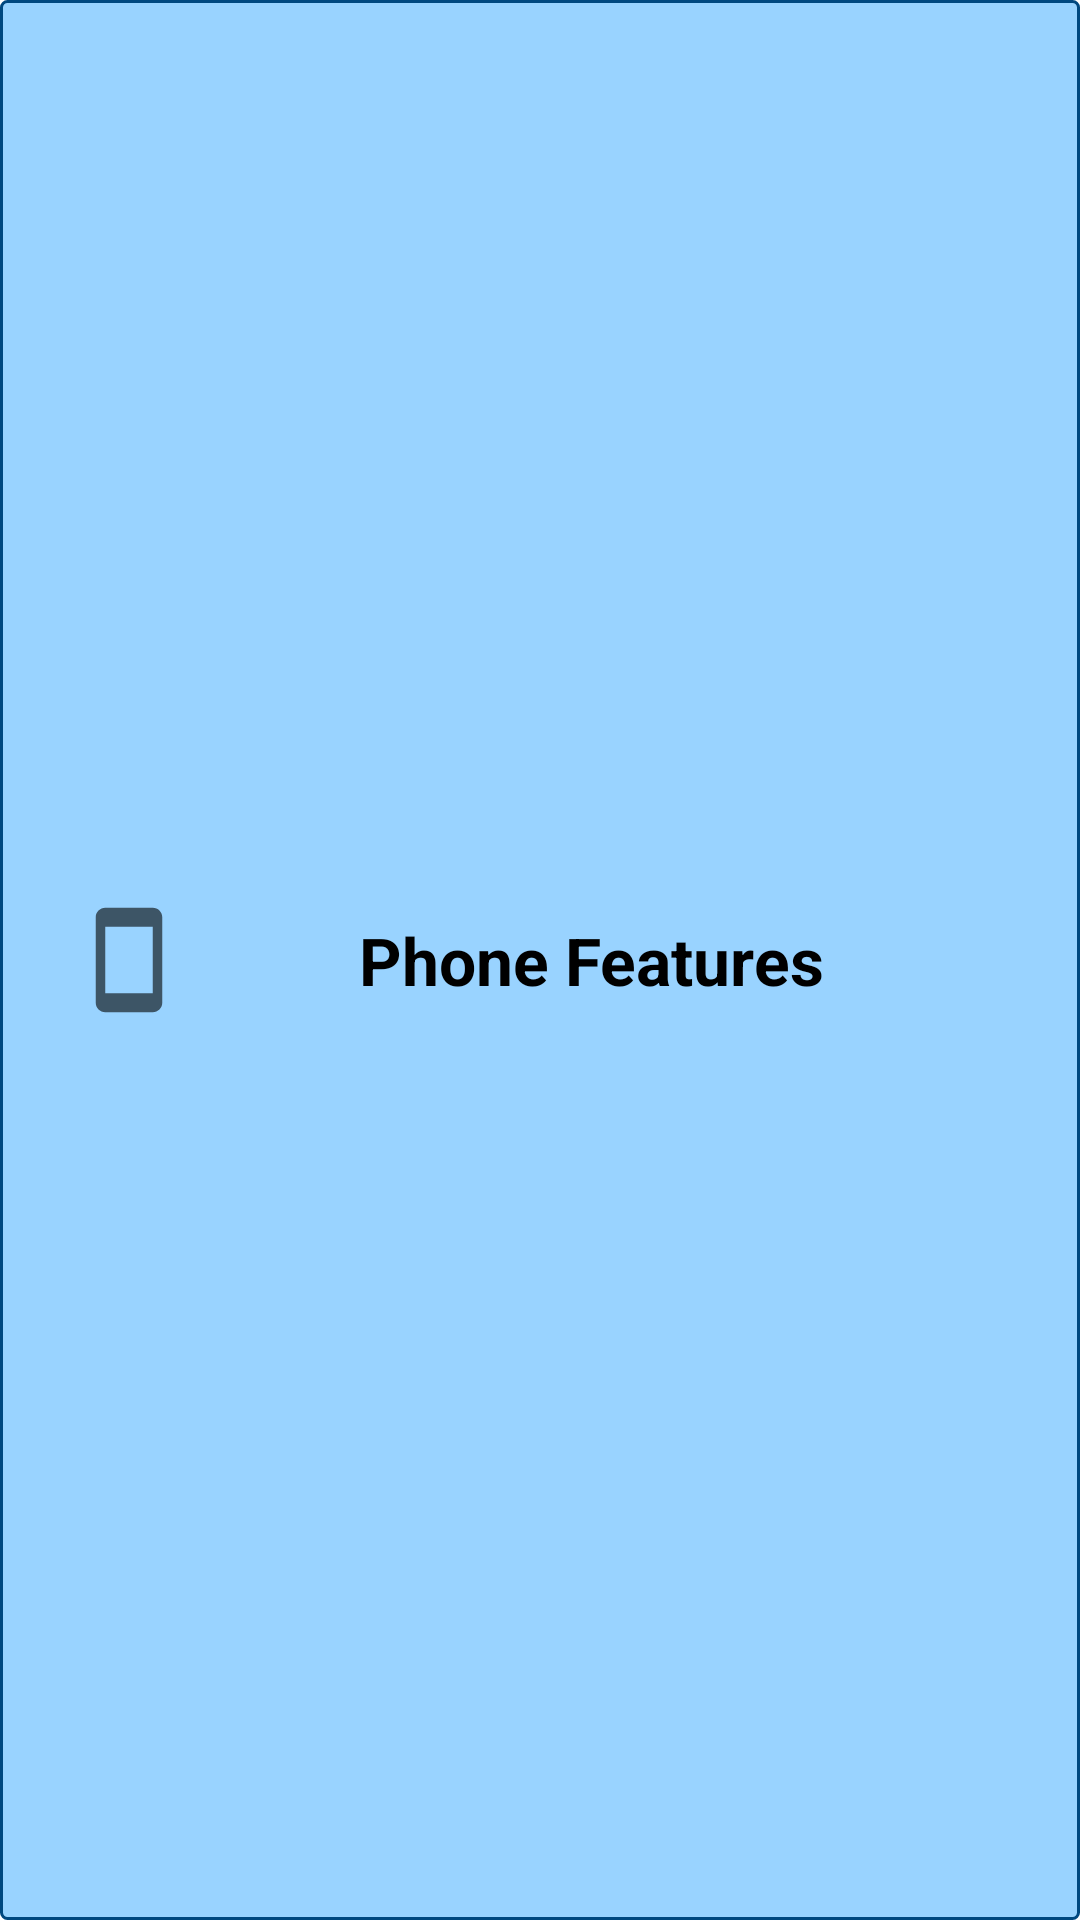

Locate icon controls on the screen. Image size 1080px×1920px, boxes as (x1, y1, x2, y2).
phone: (95, 907, 163, 1013)
